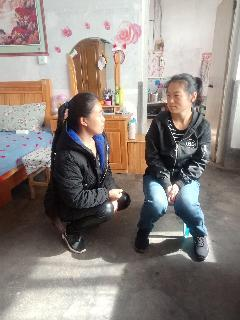person - v3 P: (136, 74, 211, 259), (45, 93, 130, 253)
